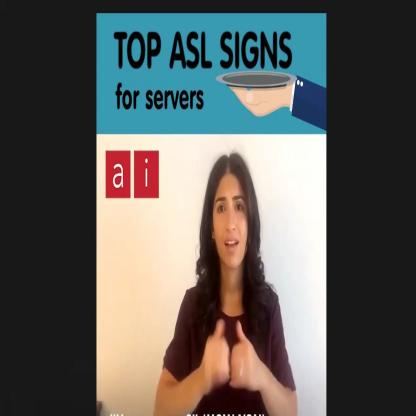HowAreYou: (188, 303, 260, 400)
